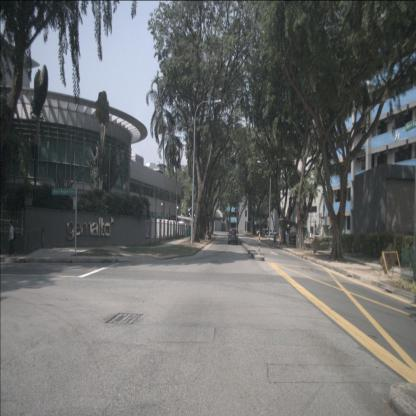human-pedestrian-adult: (7, 218, 17, 258), (309, 230, 312, 243)
vehicle-car: (228, 229, 237, 244), (258, 229, 266, 237)
